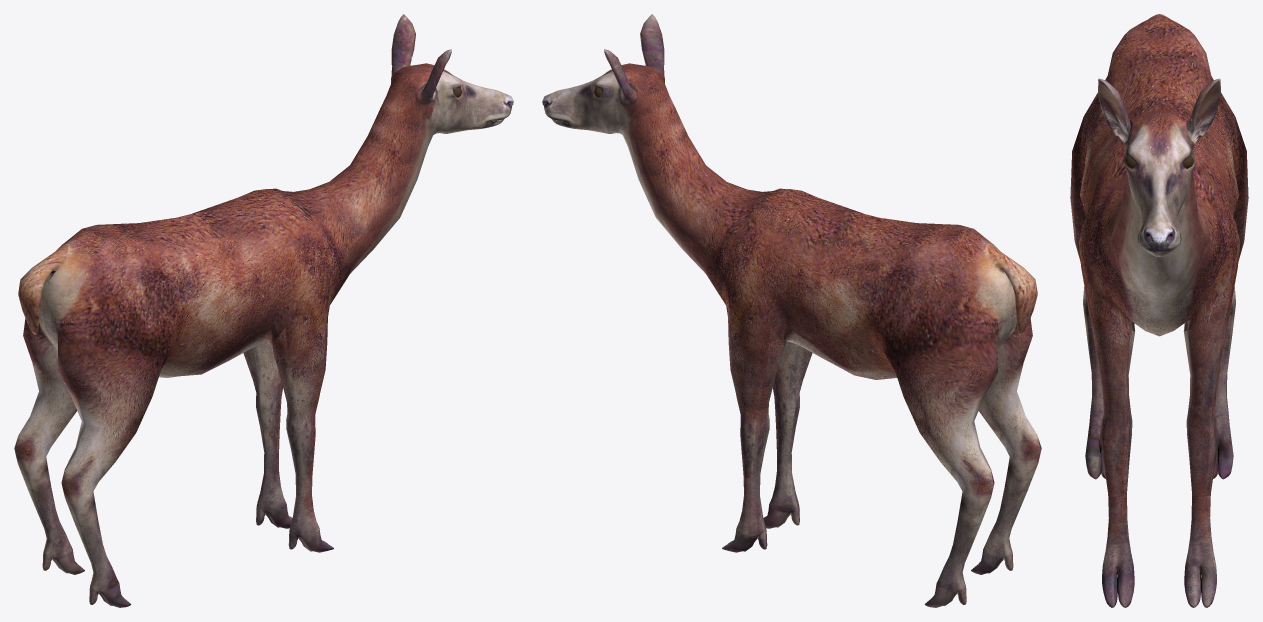
The model's file is doe.gltf.
3 views of the same model, side by side, from view 1: azimuth 30°, elevation 25°; view 2: azimuth 150°, elevation 25°; view 3: azimuth 270°, elevation 25° (orthographic). The views are drawn at different scales.
Parts seen in each view (by area): view 1: Body, Head; view 2: Body, Head; view 3: Body, Head.
Boxes of the visible parts, x1,y1,x2,y2 form: Body: (14, 72, 437, 607); Head: (391, 14, 513, 133); Body: (618, 72, 1041, 607); Head: (542, 14, 664, 133); Body: (1070, 14, 1248, 607); Head: (1098, 78, 1220, 257).
Bounding box in the file's own units: 1.19 × 1.1 × 0.2966.
Materials: 3 (2 with a texture image).
